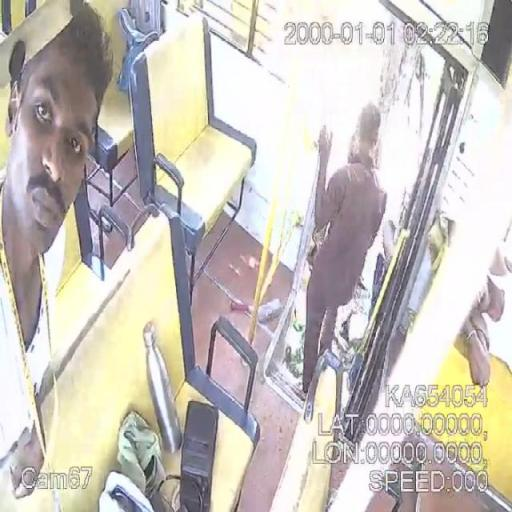persona: (1, 2, 115, 504), (299, 100, 389, 398)
